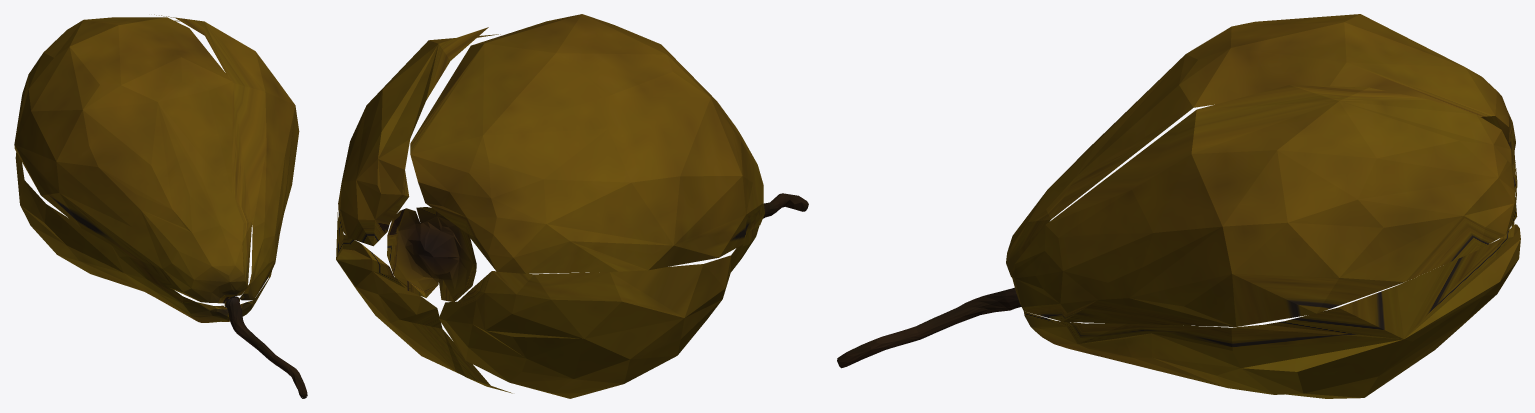
File: food_produce_pear_p01.glb
3 renders of one model, left to right at view 1: azimuth 30°, elevation 25°; view 2: azimuth 150°, elevation 25°; view 3: azimuth 270°, elevation 25°, orthographic. The views are drawn at different scales.
Visible parts, largest first — view 1: geometry_0; view 2: geometry_0; view 3: geometry_0.
Part boxes in pixels (<box>): geometry_0: <box>14,14,307,398</box>; geometry_0: <box>336,14,808,398</box>; geometry_0: <box>837,14,1520,398</box>.
Bounding box in the file's own units: 0.2444 × 0.2326 × 0.42.
1 material, 1 textured.
